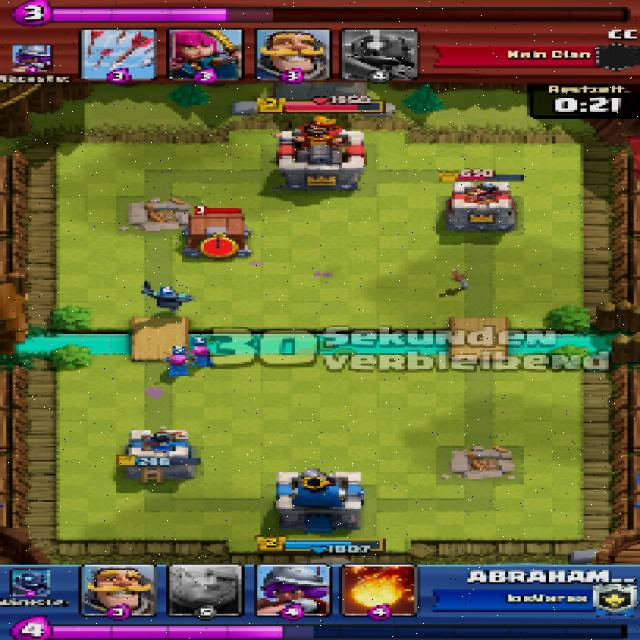Player-Archer: (163, 353, 194, 377), (189, 343, 212, 368)
Player-GoblinCage: (178, 212, 255, 259)
Player-MiniPEKKA: (137, 284, 194, 312)
